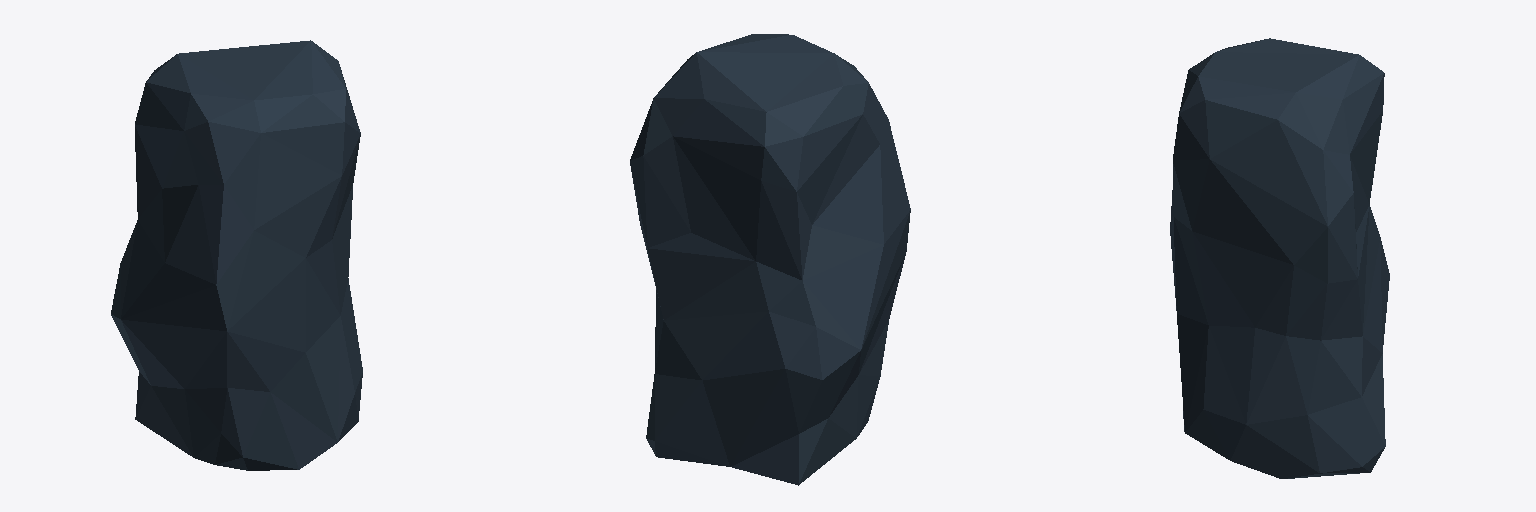
The model's file is huge_rock2.obj.
3 views of the same model, side by side, from view 1: azimuth 30°, elevation 25°; view 2: azimuth 150°, elevation 25°; view 3: azimuth 270°, elevation 25° (orthographic).
Parts seen in each view (by area): view 1: BigRock2_Cube.010; view 2: BigRock2_Cube.010; view 3: BigRock2_Cube.010.
Boxes of the visible parts, x1=… form: BigRock2_Cube.010: x1=111, y1=40, x2=362, y2=470; BigRock2_Cube.010: x1=630, y1=34, x2=910, y2=485; BigRock2_Cube.010: x1=1170, y1=38, x2=1389, y2=478.
Bounding box in the file's own units: 4.34 × 7.06 × 3.62.